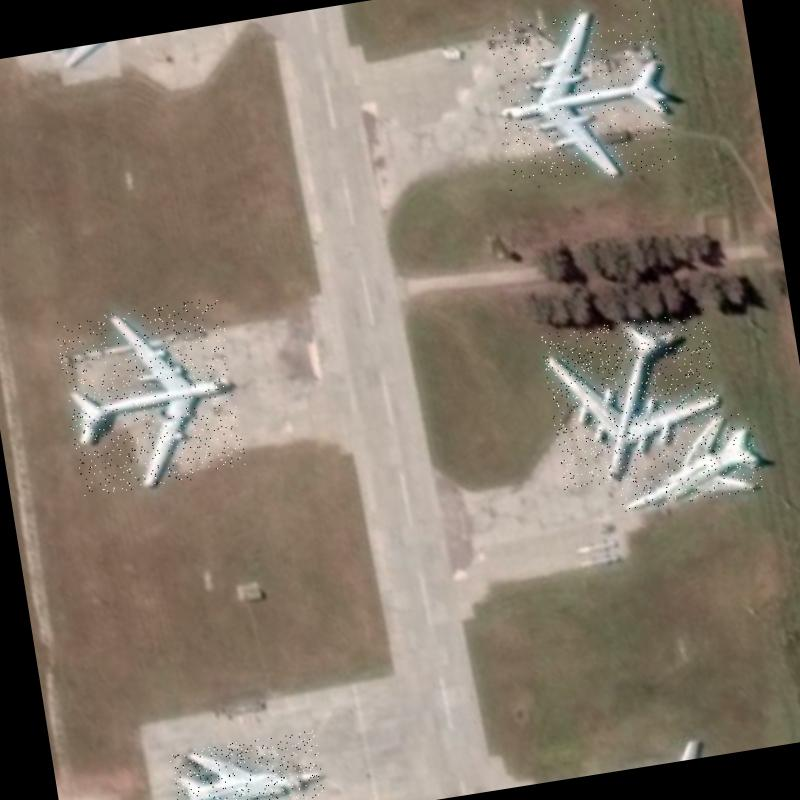A12: (610, 408, 764, 511), (168, 729, 328, 800)
A17: (53, 296, 247, 497), (483, 0, 679, 193), (540, 308, 730, 490)
